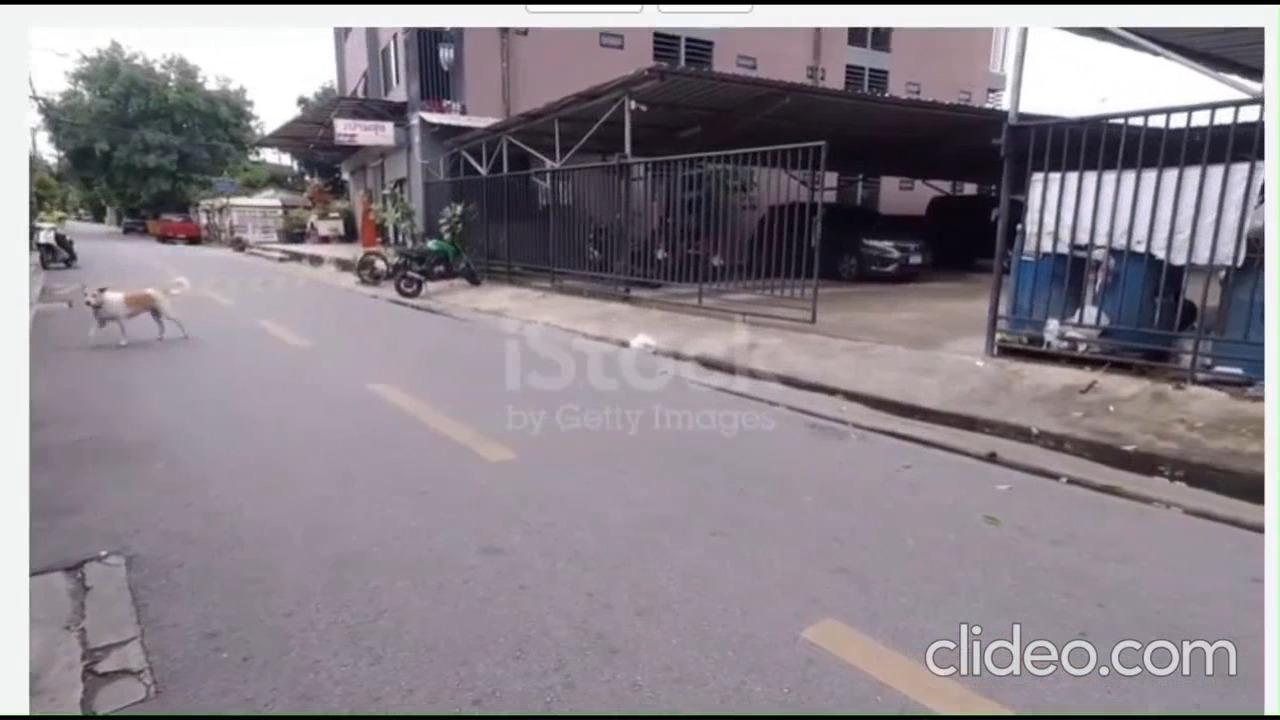dog: (79, 271, 186, 343)
